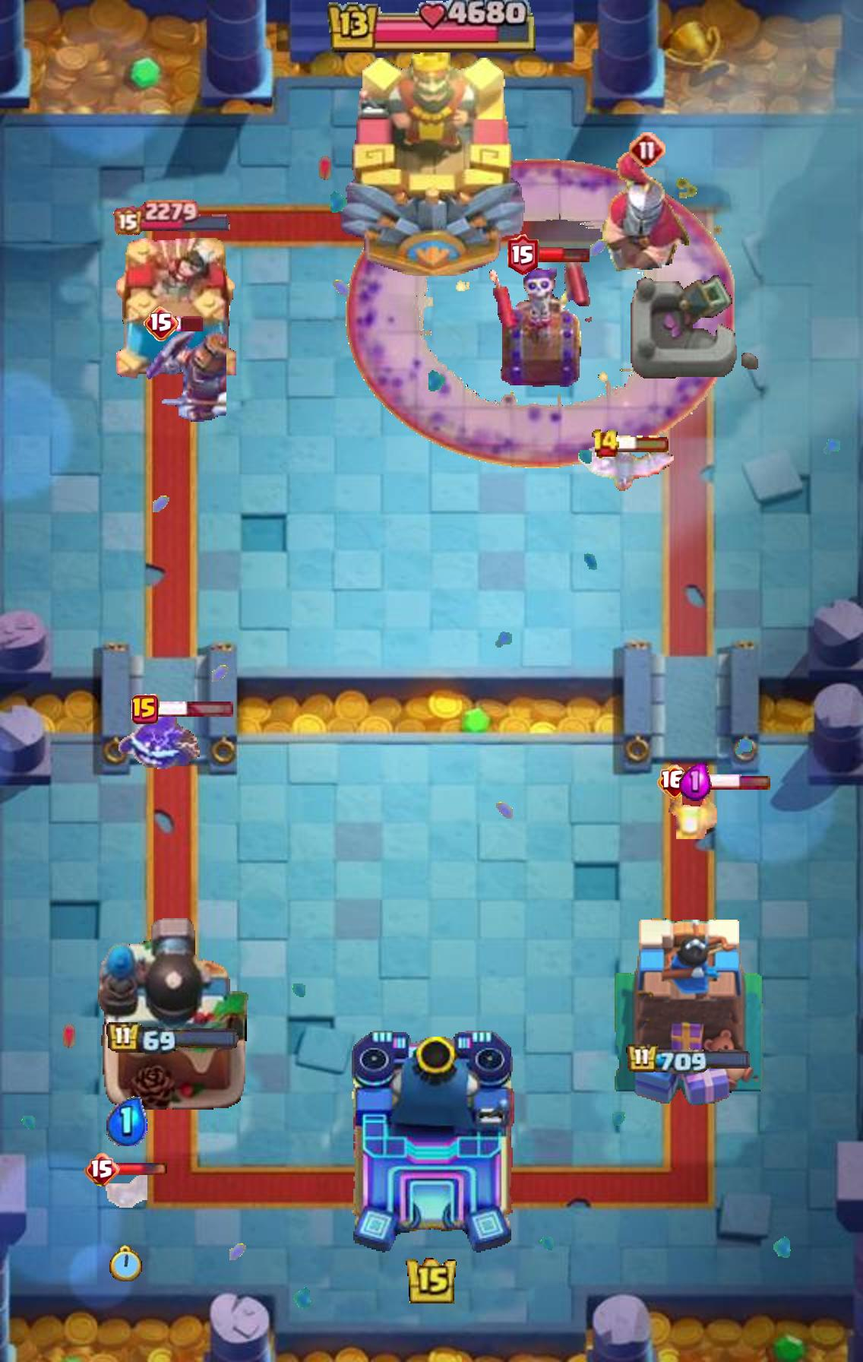bar: (689, 774, 771, 790), (155, 701, 234, 717), (616, 435, 671, 453), (536, 246, 590, 263), (116, 1162, 168, 1177), (175, 315, 205, 332)
bar-level: (629, 131, 665, 168), (507, 234, 539, 275), (144, 306, 179, 341), (657, 765, 692, 800), (84, 1153, 120, 1186), (591, 429, 620, 459), (132, 694, 160, 724)
